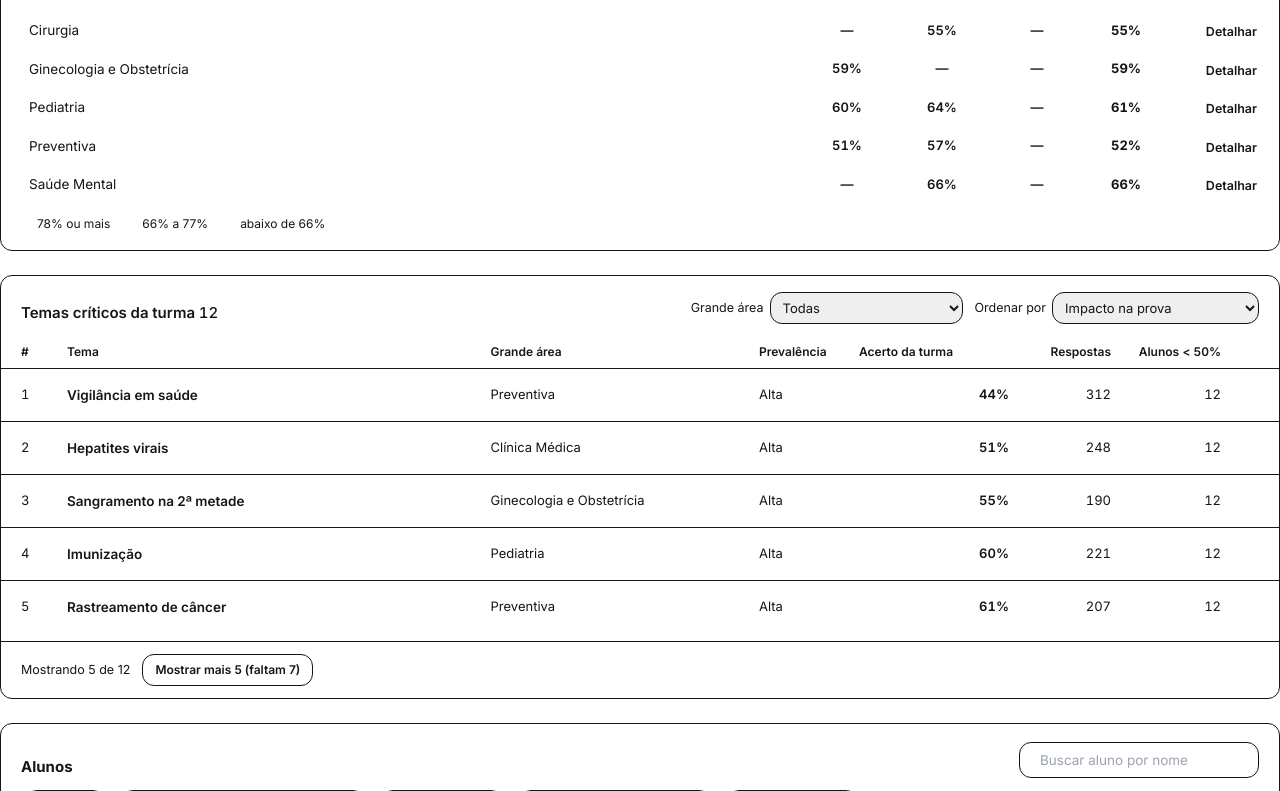
Minha Turma · com simulados › erro da fonte ao criar intervenção vira toast com a mensagem de erros.ts
(page scrolled)
Click the button with aria-label "Expandir Vigilância em saúde" at (132, 395), box [67,379,198,411]
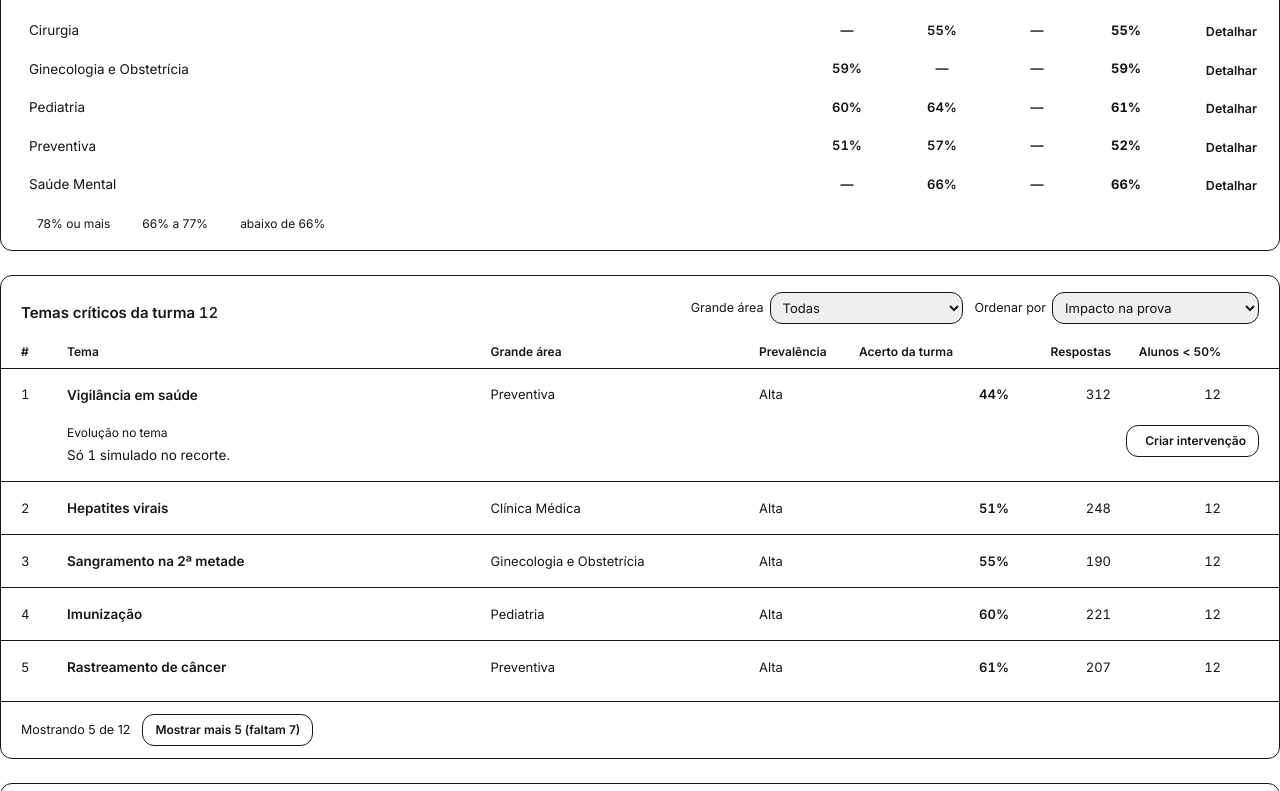
Click the button "Criar intervenção" at (1193, 441), box [1126,425,1259,457]
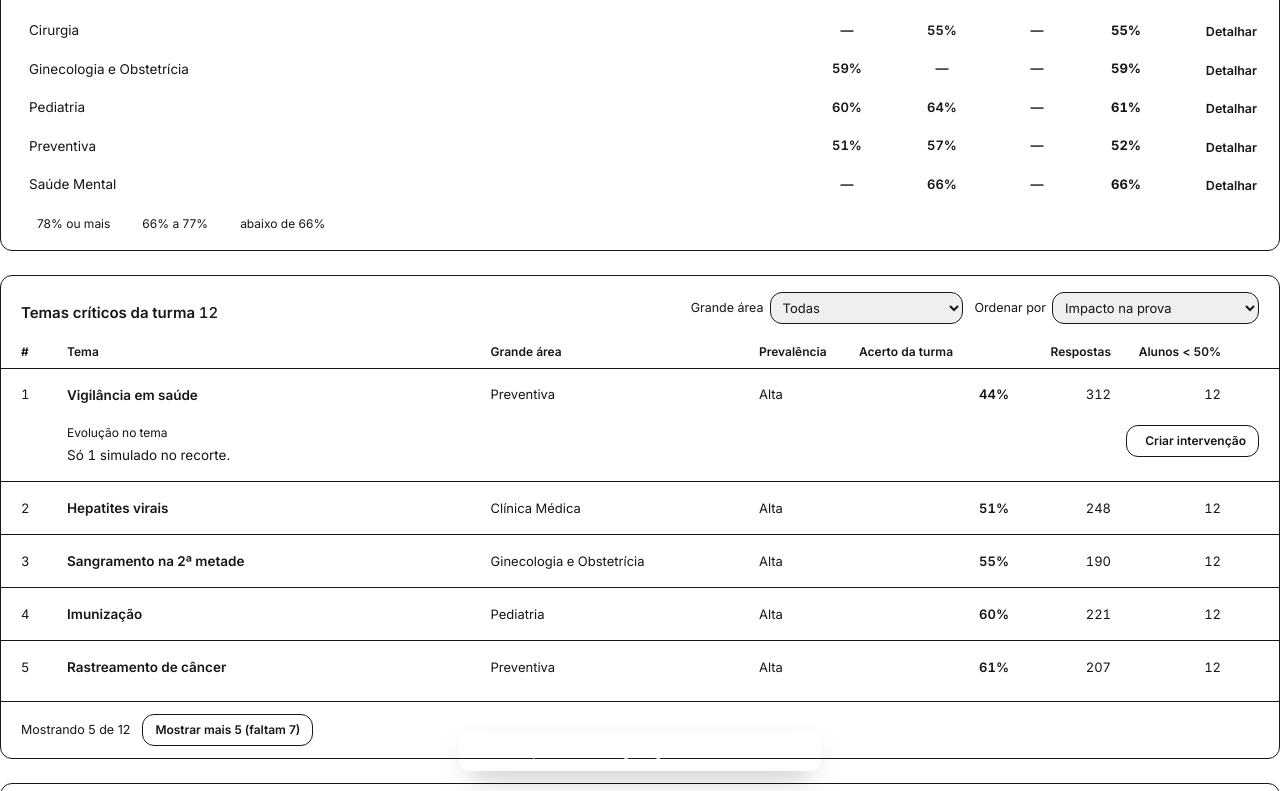
Expected: the text "Não foi possível carregar agora. Tente novamente." is shown, [483,741,805,761]
